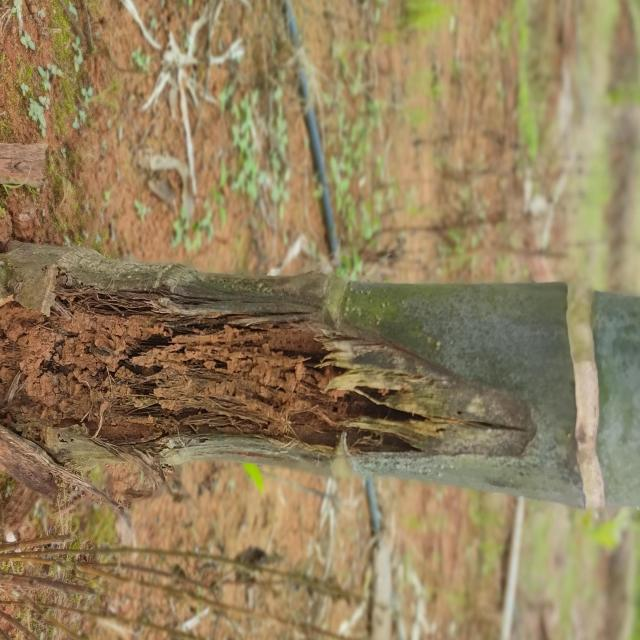Stem_Cracking: (27, 176, 509, 557)
